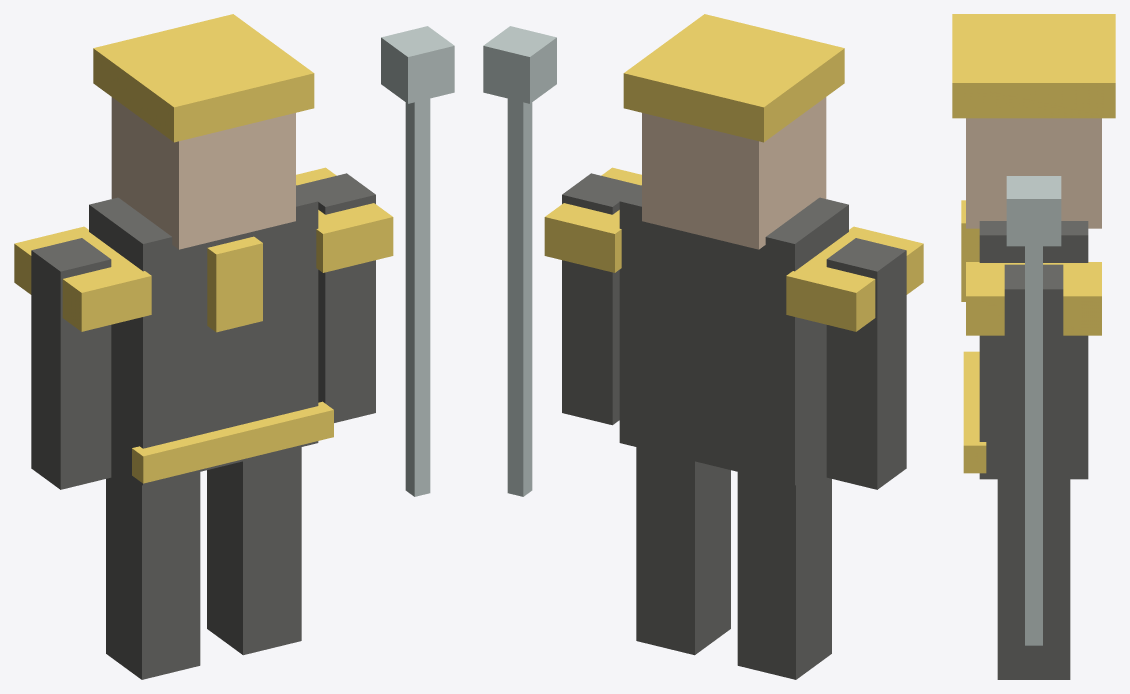
File: 15_soren_ashvein_guide_of_coral.glb
3 renders of one model, left to right at view 1: azimuth 30°, elevation 25°; view 2: azimuth 150°, elevation 25°; view 3: azimuth 270°, elevation 25°, orthographic.
Visible parts, largest first — view 1: Soren Ashvein, Guide of Coral; view 2: Soren Ashvein, Guide of Coral; view 3: Soren Ashvein, Guide of Coral.
Part boxes in pixels (x1,y1,x2,y2): Soren Ashvein, Guide of Coral: (14, 14, 454, 679); Soren Ashvein, Guide of Coral: (483, 14, 923, 679); Soren Ashvein, Guide of Coral: (952, 14, 1115, 679).
Bounding box in the file's own units: 1.1 × 1.56 × 0.3906.
